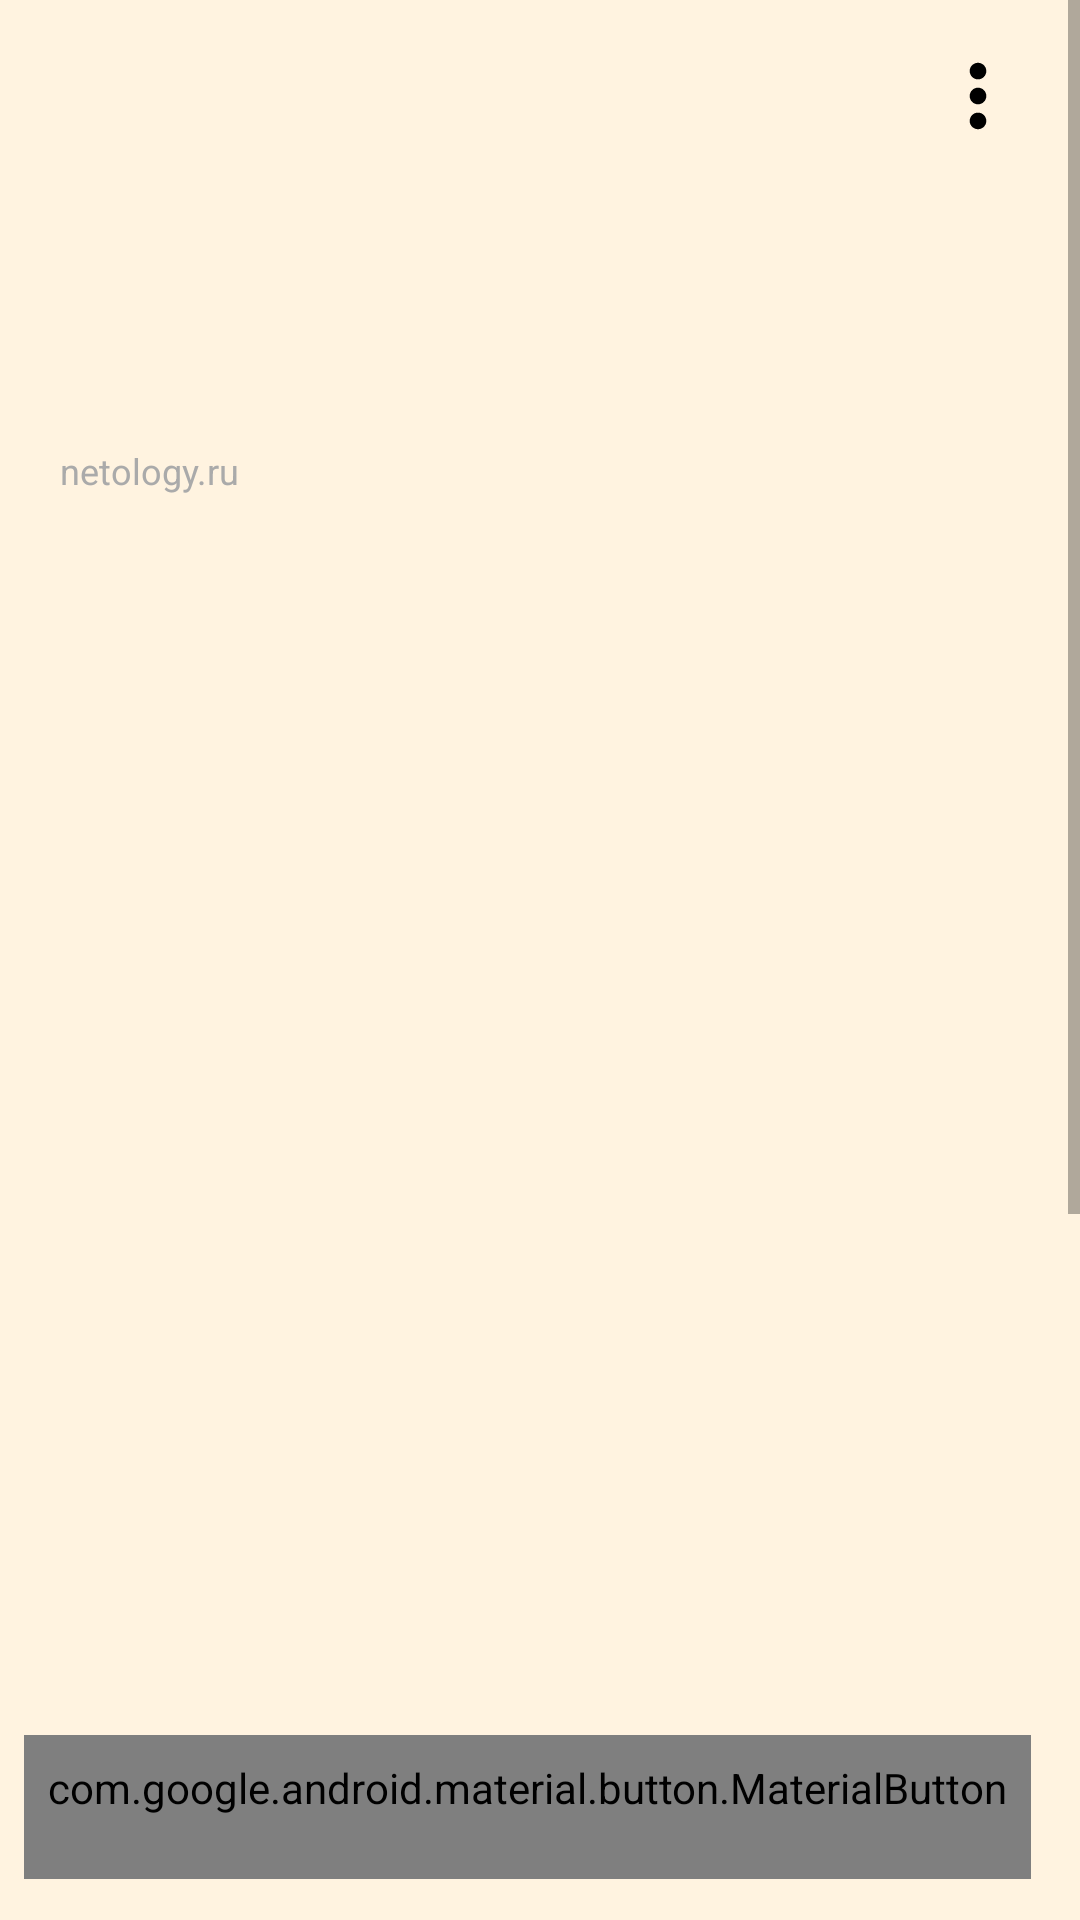

Where icons sit on this 1080x1920 app screen, as (x1, y1, x2, y2):
Menu: (969, 62, 987, 130)
